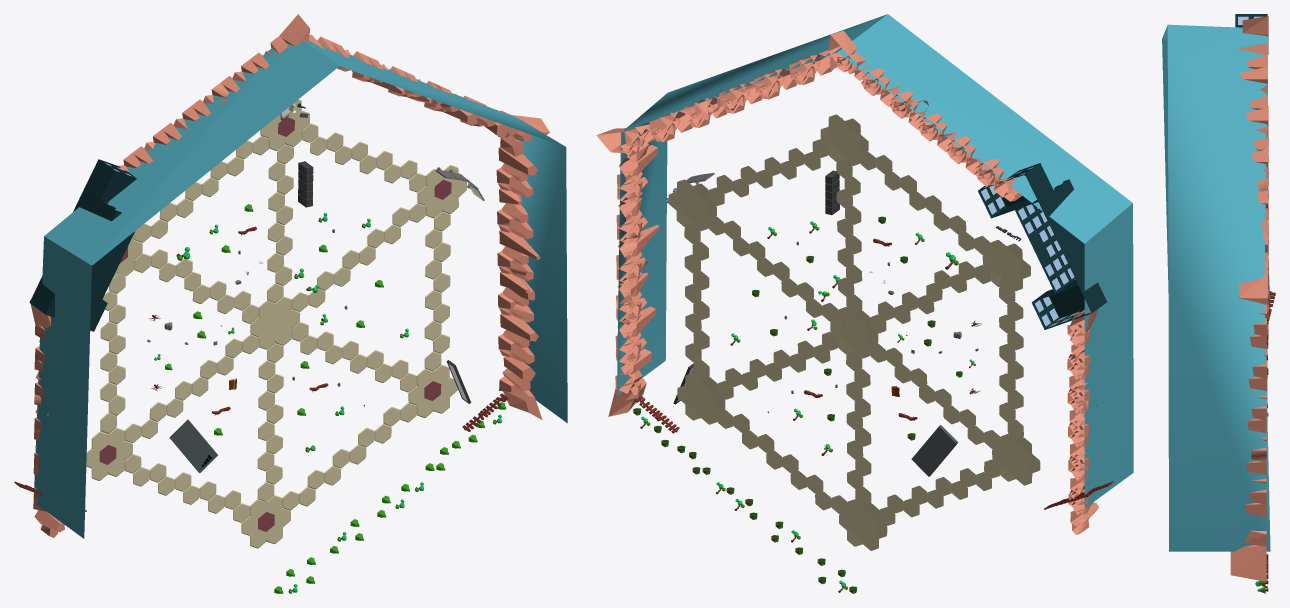
File: MainMap.glb
3 renders of one model, left to right at view 1: azimuth 30°, elevation 25°; view 2: azimuth 150°, elevation 25°; view 3: azimuth 270°, elevation 25°, orthographic. The views are drawn at different scales.
Parts seen in each view (by area): view 1: Plane.001, пол.003, Circle.015, stone2.001, Circle.001, Circle.014, Circle.032, подставкаКлавиатуры; view 2: пол.003, Plane.001, Circle.015, stone2.001, Circle.014, Circle.001, Circle.032, stone2.003, подставкаКлавиатуры; view 3: Plane.001, Circle.015, Circle.014, Circle.001, Circle.032.
Boxes of the visible parts, bbox=[...] form: Plane.001: bbox=[34, 40, 567, 538]; пол.003: bbox=[86, 99, 466, 548]; Circle.015: bbox=[496, 137, 542, 419]; stone2.001: bbox=[29, 159, 136, 331]; Circle.001: bbox=[118, 14, 310, 171]; Circle.014: bbox=[309, 34, 549, 142]; Circle.032: bbox=[30, 300, 64, 537]; подставкаКлавиатуры: bbox=[169, 419, 217, 472]; пол.003: bbox=[668, 114, 1040, 550]; Plane.001: bbox=[617, 14, 1133, 507]; Circle.015: bbox=[608, 141, 659, 416]; stone2.001: bbox=[978, 163, 1106, 329]; Circle.014: bbox=[596, 50, 844, 156]; Circle.001: bbox=[828, 30, 1022, 201]; Circle.032: bbox=[1067, 309, 1098, 534]; stone2.003: bbox=[981, 166, 1090, 327]; подставкаКлавиатуры: bbox=[911, 425, 958, 476]; Plane.001: bbox=[1162, 24, 1270, 551]; Circle.015: bbox=[1230, 304, 1267, 581]; Circle.014: bbox=[1237, 43, 1267, 304]; Circle.001: bbox=[1242, 16, 1268, 54]; Circle.032: bbox=[1267, 105, 1268, 348].
Size of what is drawn, in the model's own units: 143 by 149 by 26.68.
Materials: 40 (6 with a texture image).
